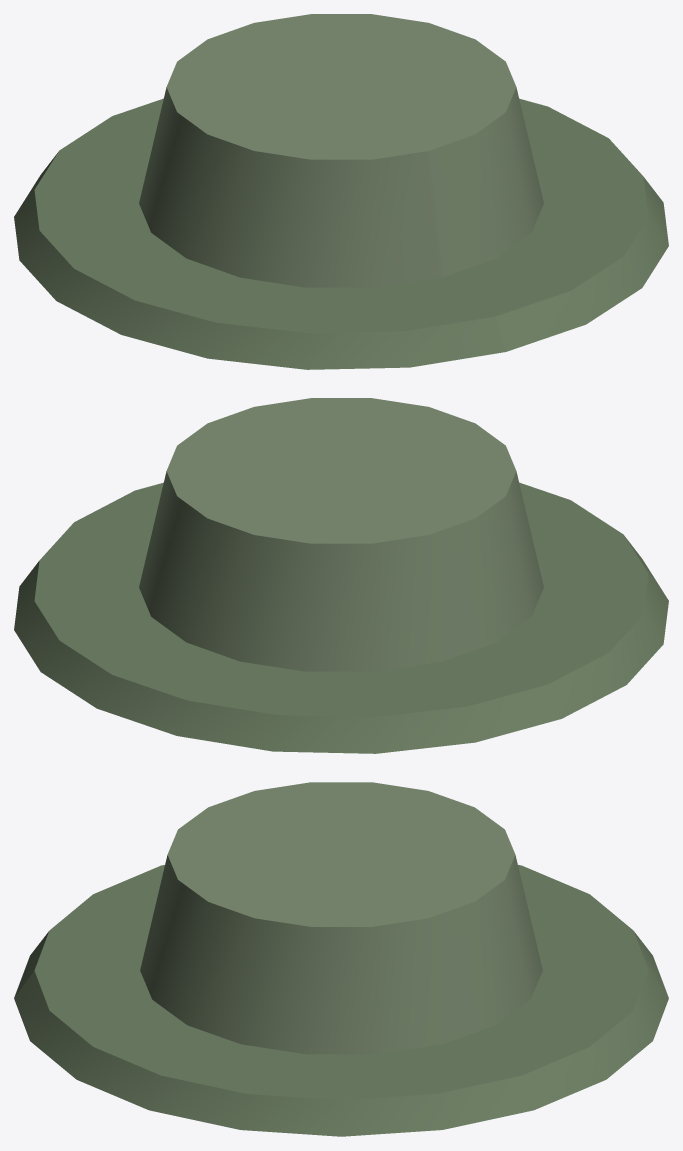
File: head-accessory.glb
3 views of the same model, one above another, from view 1: azimuth 30°, elevation 25°; view 2: azimuth 150°, elevation 25°; view 3: azimuth 270°, elevation 25° (orthographic).
Parts seen in each view (by area): view 1: buckethat; view 2: buckethat; view 3: buckethat.
Boxes of the visible parts, x1,y1,x2,y2 form: buckethat: [14, 14, 668, 369]; buckethat: [14, 398, 668, 753]; buckethat: [14, 782, 668, 1136].
Bounding box in the file's own units: 0.64 × 0.155 × 0.64.
